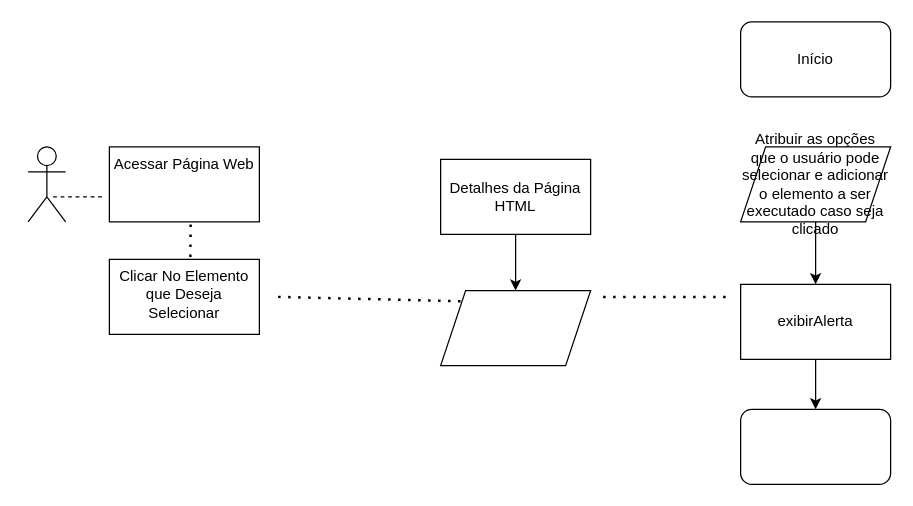
Image size: 913x506. Some labels were removed from this diagram. The box of each missing label's shape, as (x1, y1, x2, y2) in pixels:
Fim: (739, 408, 891, 484)
Opções de Elementos a serem selecionados: (439, 289, 591, 366)
Usuário: (27, 146, 66, 222)
